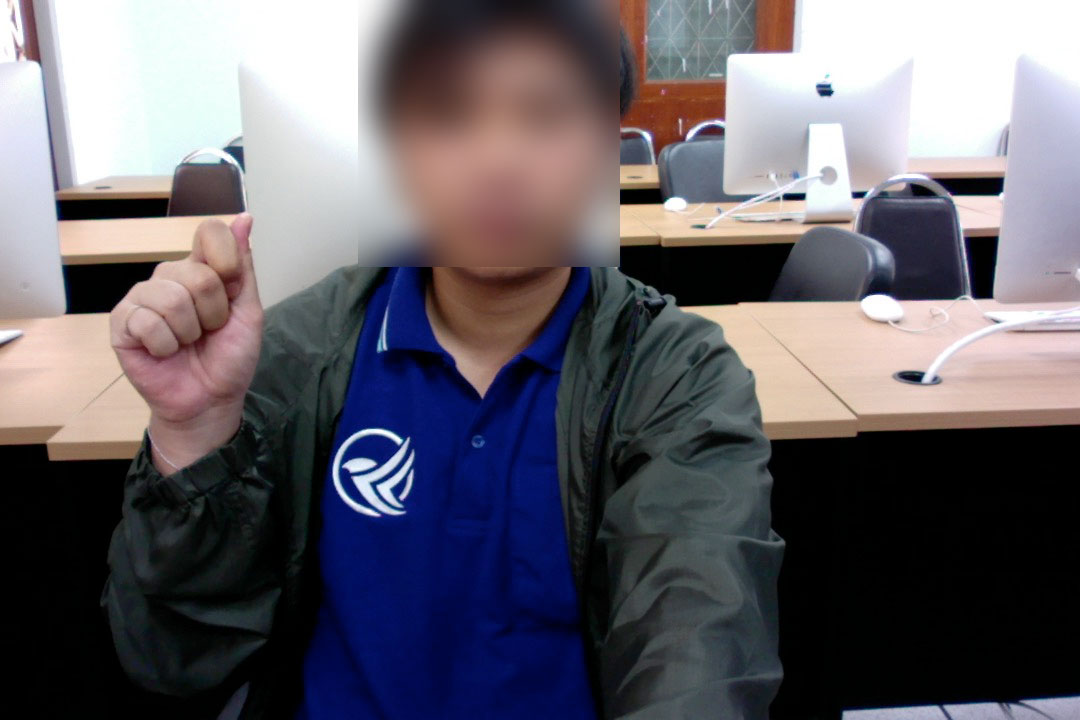or: (97, 202, 273, 441)
